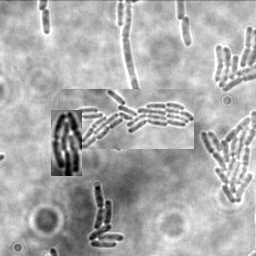Dividing: (123, 1, 142, 88), (41, 8, 52, 35)
Microcolony: (60, 89, 194, 149), (200, 109, 255, 205), (212, 25, 255, 94), (89, 184, 126, 248), (51, 110, 82, 176), (182, 16, 193, 48)
